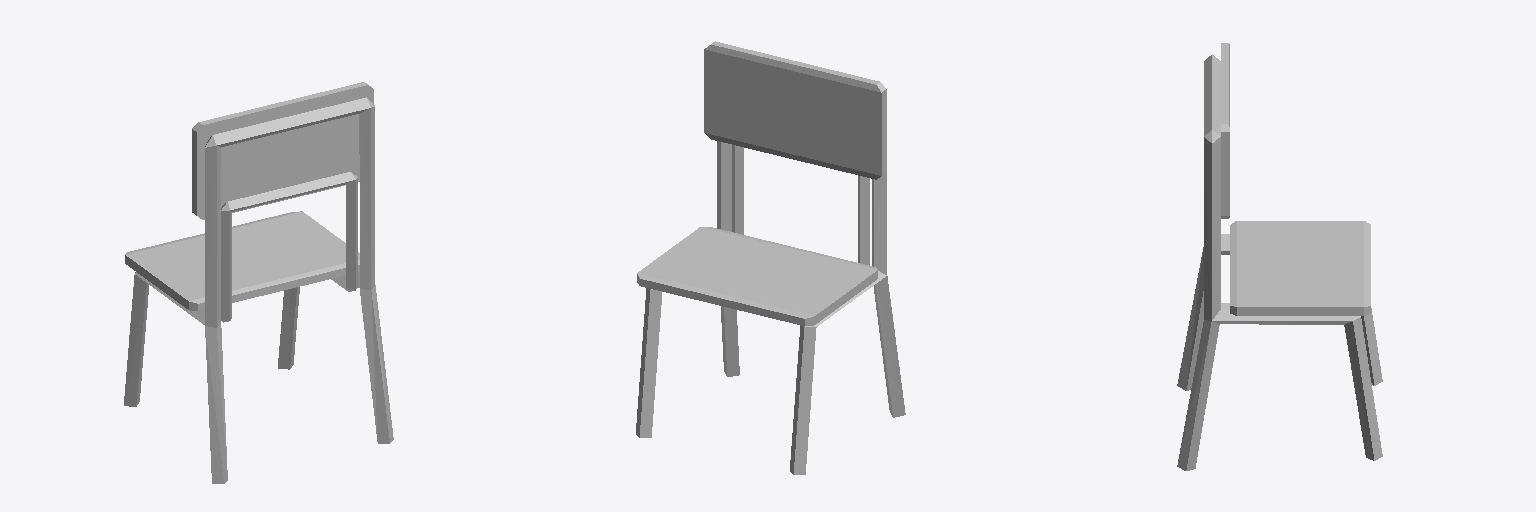
Rendered from chair.obj.
3 renders of one model, left to right at view 1: azimuth 30°, elevation 25°; view 2: azimuth 150°, elevation 25°; view 3: azimuth 270°, elevation 25°, orthographic.
Parts seen in each view (by area): view 1: chair2; view 2: chair2; view 3: chair2.
Boxes of the visible parts, <box> form: chair2: <box>124,82,393,483</box>; chair2: <box>636,41,905,474</box>; chair2: <box>1177,43,1382,470</box>.
Bounding box in the file's own units: 0.2764 × 0.5018 × 0.2709.